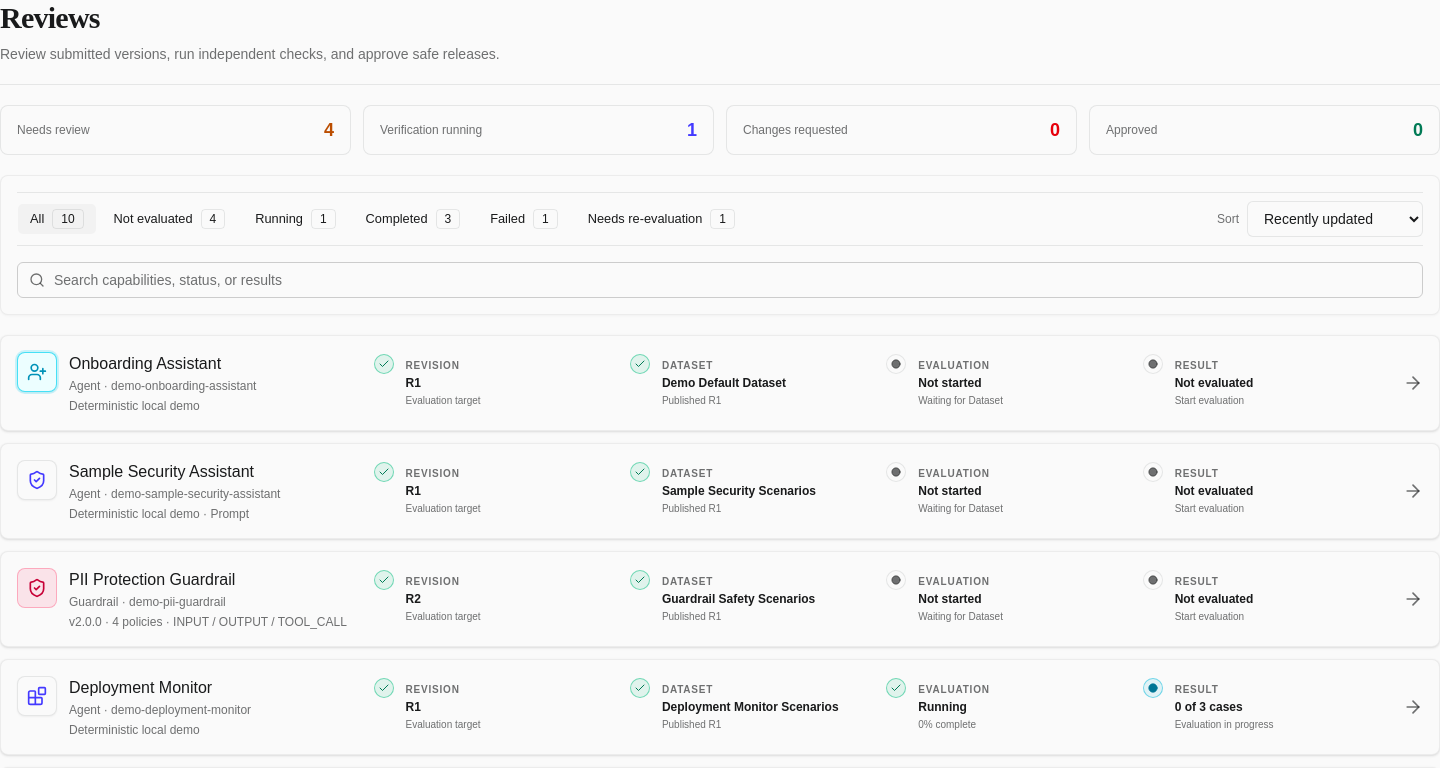
it: Catalog drawer progressive disclosure › starts Evaluation directly from ready Test coverage with Details closed
What coordinates should you click on to do the following:
click the button named "Onboarding Assistant demo-onboarding-assistant"
I would click on:
 (720, 383)
Its box is top-left (0, 335), bottom-right (1439, 431).
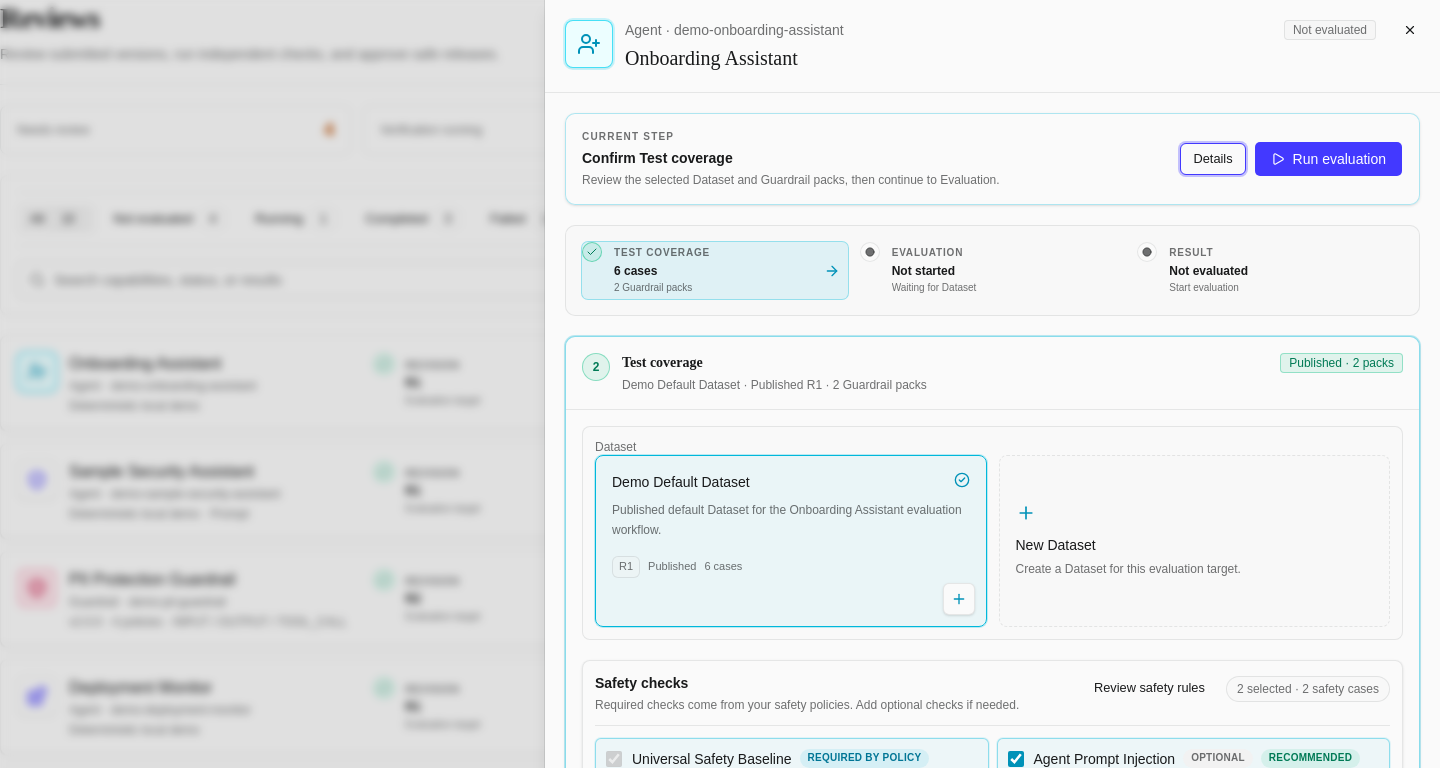
Expected: the text "Confirm Test coverage" is shown, top-left (582, 150), bottom-right (733, 166)
Expected: the button "Run evaluation" is shown
What coordinates should you click on to do the following:
click the button "Run evaluation"
I would click on:
 (1328, 159)
Its box is top-left (1254, 141), bottom-right (1403, 177).
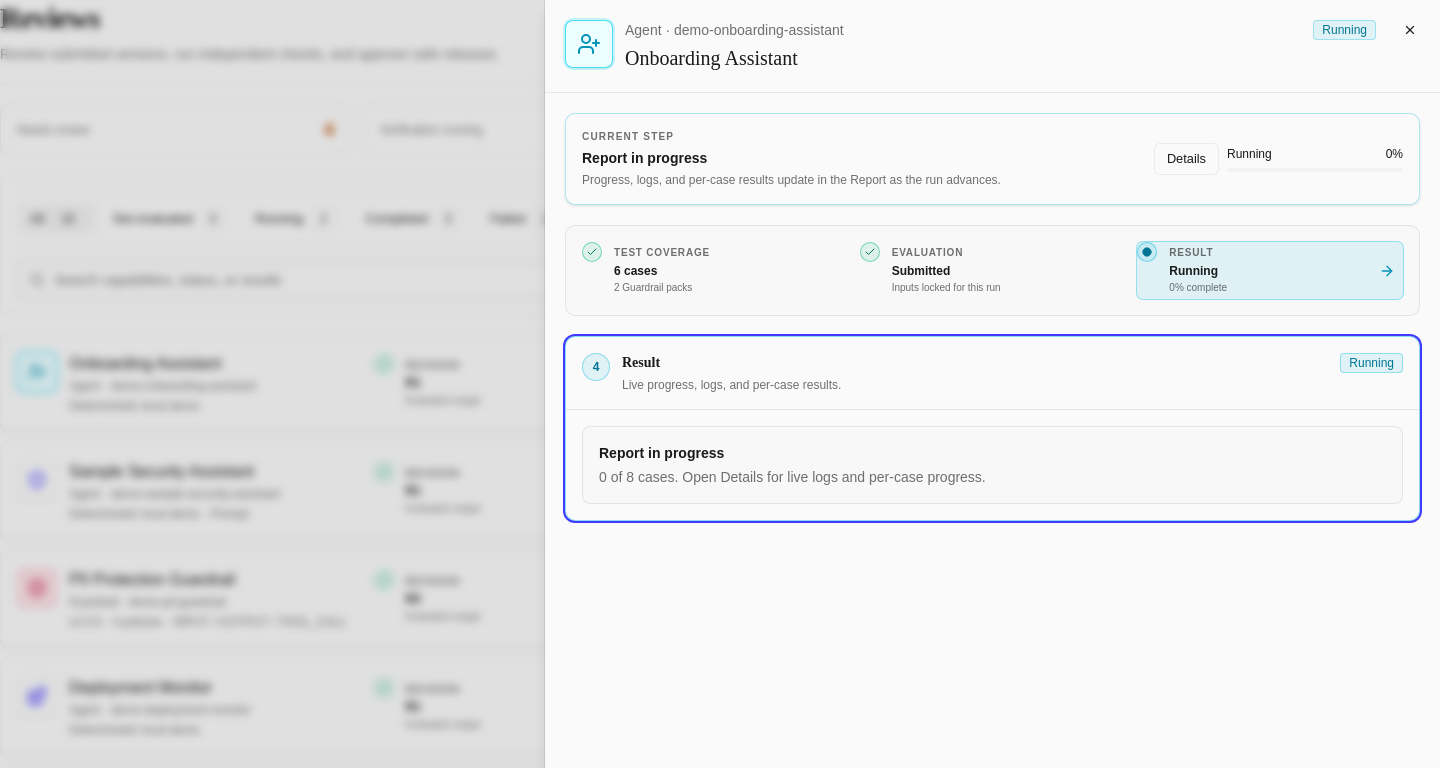
Expected: the element labelled "Running 0%" is shown, top-left (1227, 146), bottom-right (1403, 172)
Expected: the element named "Current step: Result" is shown, top-left (565, 336), bottom-right (1420, 521)
